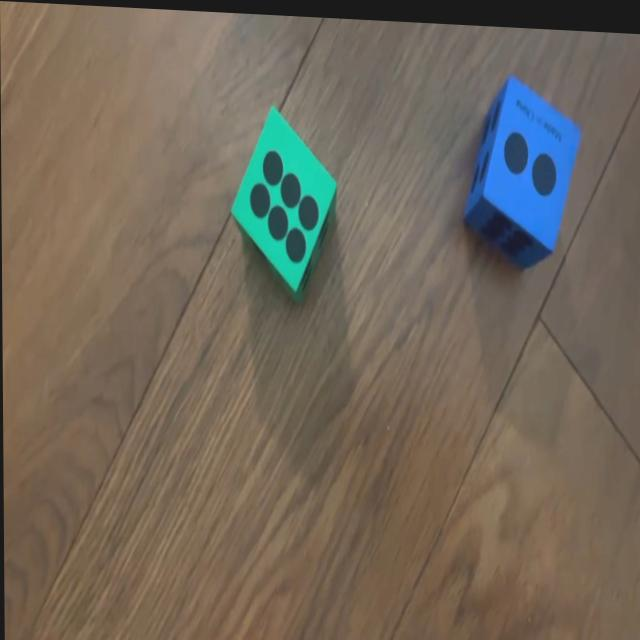blue_block: (461, 68, 582, 259)
